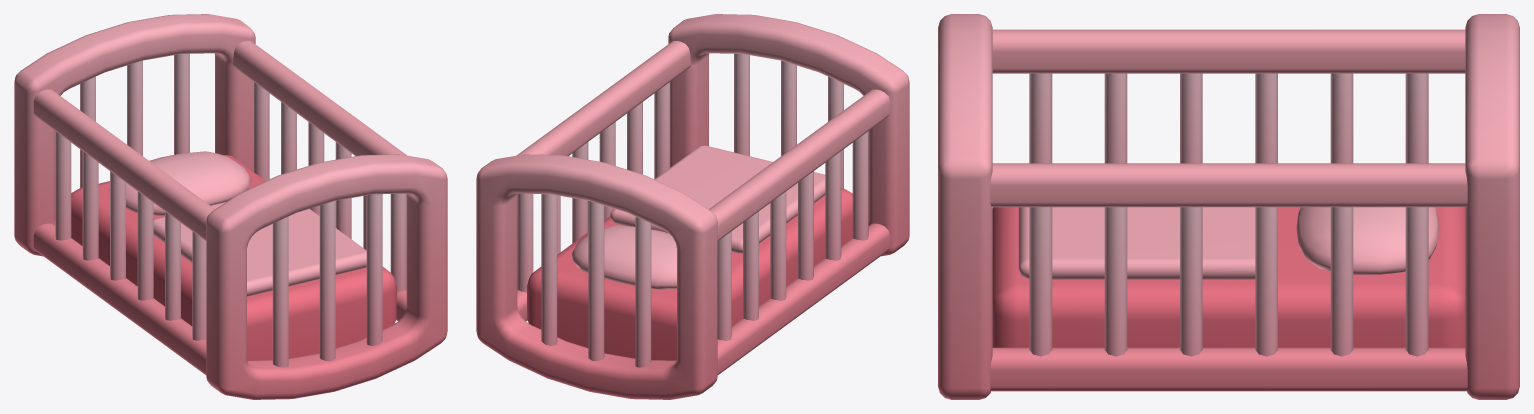
File: Bed_23.glb
3 renders of one model, left to right at view 1: azimuth 30°, elevation 25°; view 2: azimuth 150°, elevation 25°; view 3: azimuth 270°, elevation 25°, orthographic. The views are drawn at different scales.
Visible parts, largest first — view 1: Bed_23; view 2: Bed_23; view 3: Bed_23.
Boxes of the visible parts, <box> form: Bed_23: <box>14,14,447,399</box>; Bed_23: <box>476,14,909,399</box>; Bed_23: <box>938,14,1519,399</box>.
Size of the model in its own units: 0.8 by 0.7369 by 1.28.
1 material, 1 textured.
